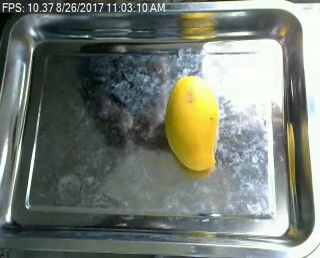Mango: (162, 72, 226, 178)
